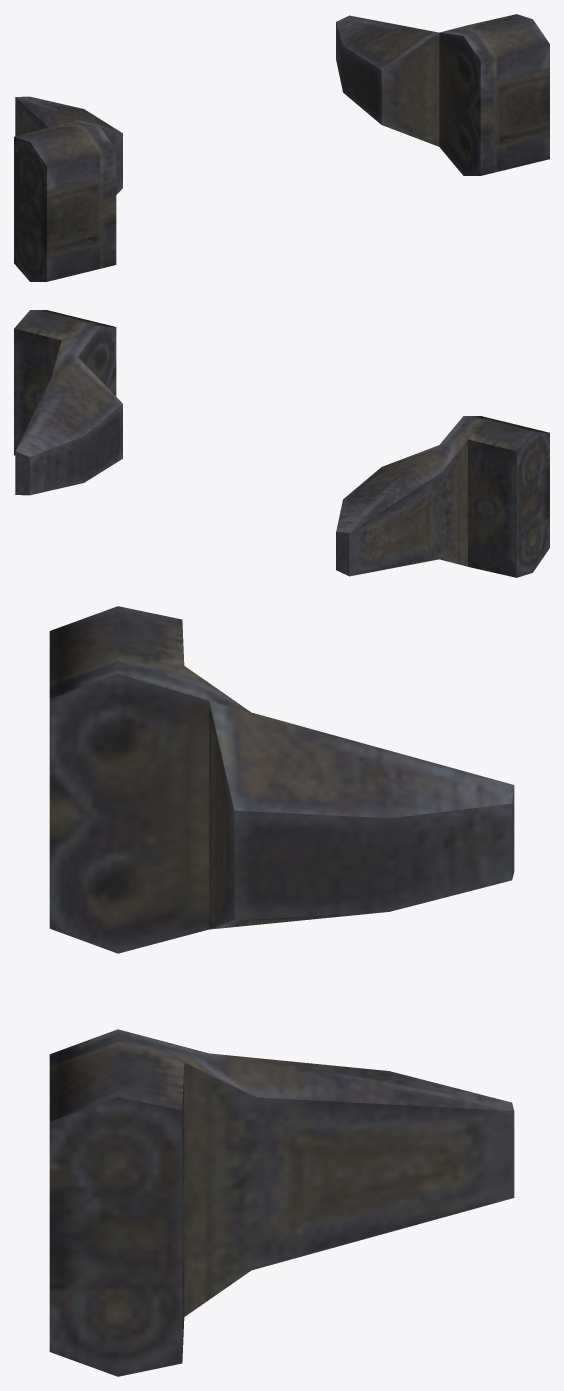
3 renders of one model, top to bottom at view 1: azimuth 30°, elevation 25°; view 2: azimuth 150°, elevation 25°; view 3: azimuth 270°, elevation 25°, orthographic. The views are drawn at different scales.
Parts seen in each view (by area): view 1: set_0_group_0; view 2: set_0_group_0; view 3: set_0_group_0.
Part boxes in pixels (left/top/right/bottom): set_0_group_0: left=14, top=14, right=549, bottom=281; set_0_group_0: left=14, top=310, right=549, bottom=577; set_0_group_0: left=49, top=606, right=514, bottom=1376.
Bounding box in the file's own units: 0.423 × 0.1125 × 0.1692.
1 material, 1 textured.
